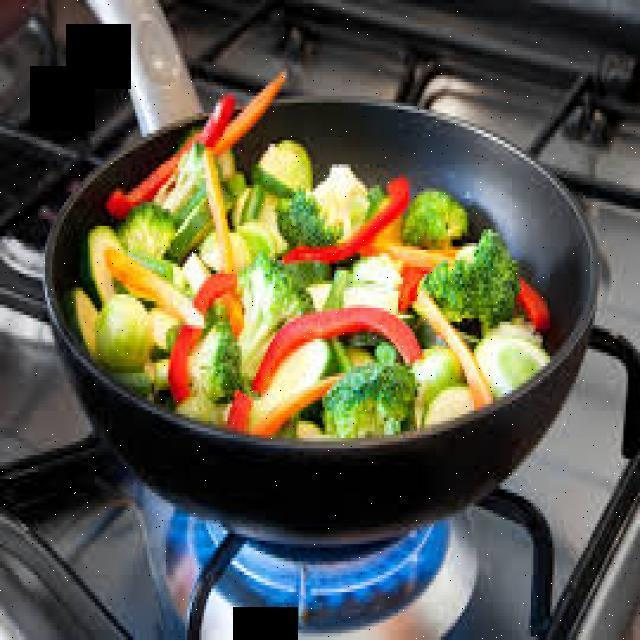Flame: (147, 509, 485, 631)
Pan: (32, 85, 618, 557)
